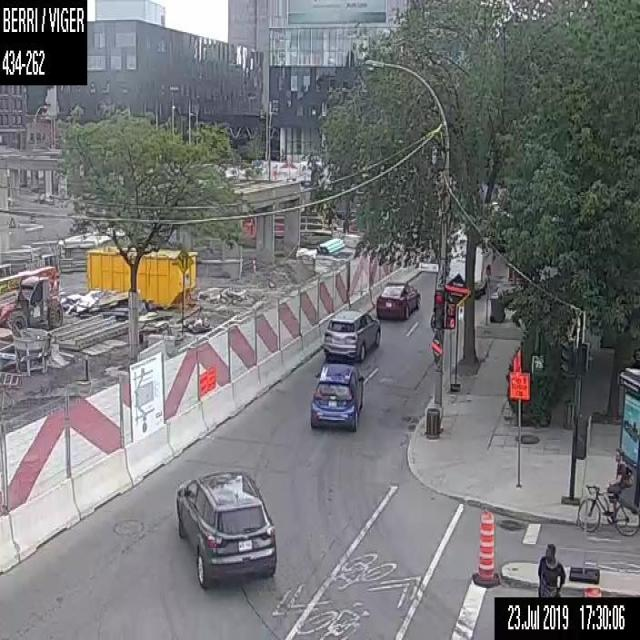construction: (0, 160, 452, 572), (507, 351, 532, 483), (472, 509, 499, 588), (582, 586, 602, 596)
cyclist: (575, 447, 639, 537)
pedestrian: (536, 541, 566, 596)
vehicle: (174, 466, 276, 586), (309, 363, 364, 431), (1, 271, 59, 327), (322, 307, 381, 361), (376, 282, 422, 320)
